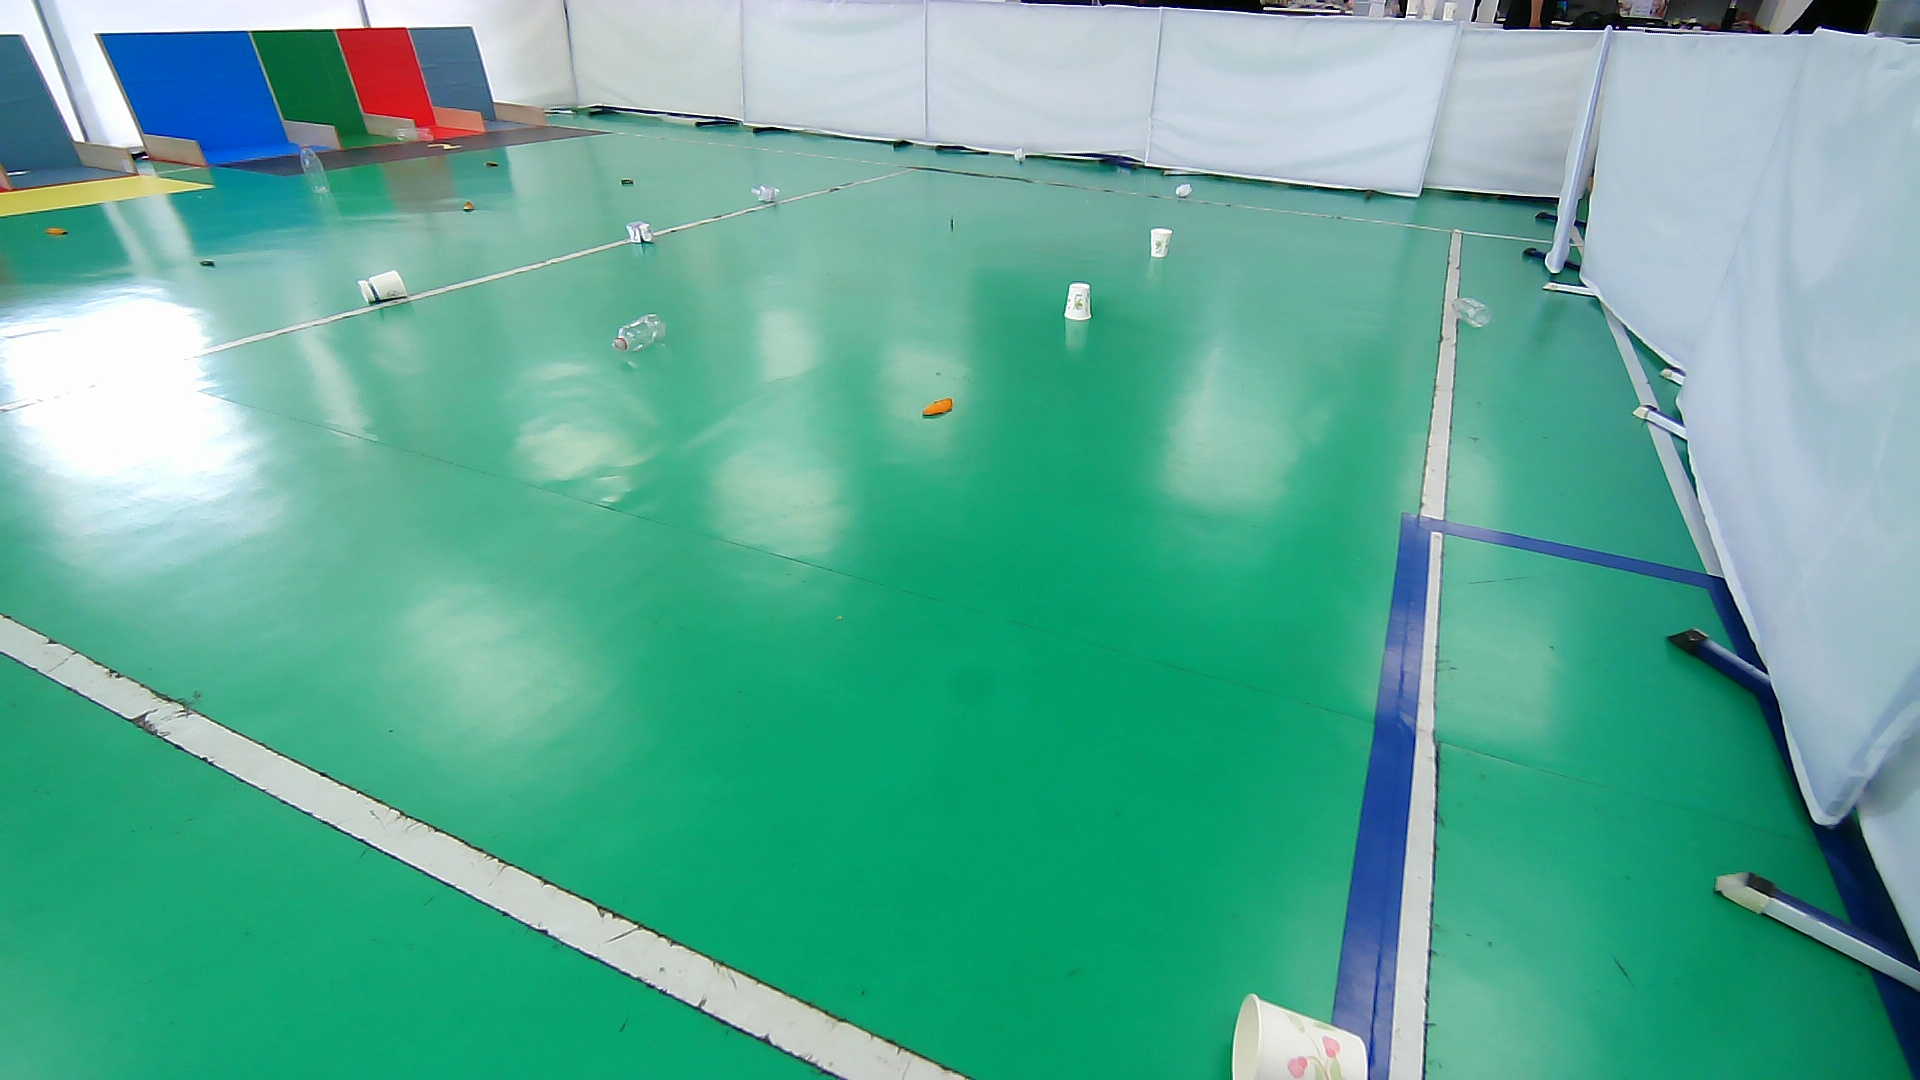battery: (194, 255, 222, 272), (944, 210, 960, 237), (480, 156, 504, 173), (615, 174, 640, 189)
bottle: (611, 310, 671, 357), (299, 140, 334, 196), (1449, 293, 1495, 334), (378, 125, 434, 146)
orangepeel: (915, 393, 956, 425), (40, 218, 74, 243), (456, 195, 481, 215)
papercup: (1221, 989, 1377, 1080), (355, 266, 414, 309), (1058, 276, 1098, 326), (1143, 222, 1178, 262)
spitball: (621, 218, 659, 248), (749, 182, 783, 206), (1171, 179, 1197, 200)
